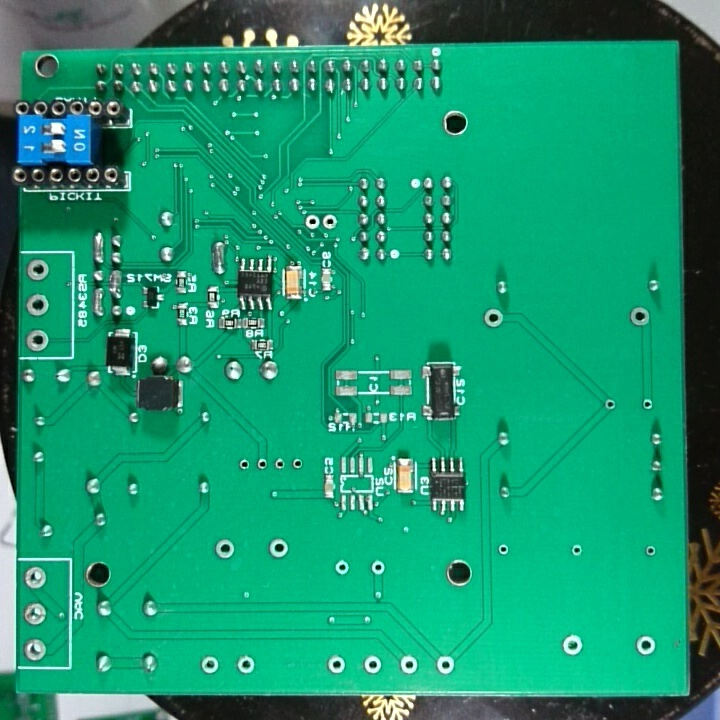F: (24, 290, 53, 320), (22, 326, 53, 354), (22, 563, 49, 592), (559, 630, 585, 660), (631, 632, 659, 659), (22, 636, 48, 664), (25, 256, 51, 283), (22, 600, 48, 626), (266, 535, 291, 562), (360, 652, 385, 678), (211, 536, 237, 561), (432, 653, 457, 678), (629, 304, 653, 330), (325, 652, 349, 678), (199, 652, 222, 678), (397, 652, 420, 677), (482, 307, 505, 331), (235, 653, 257, 678), (331, 558, 354, 580), (321, 211, 339, 234), (303, 212, 322, 233), (289, 451, 305, 475), (567, 539, 585, 560), (271, 452, 289, 473), (368, 556, 385, 578), (494, 540, 512, 560), (642, 540, 659, 561), (237, 455, 254, 475), (639, 395, 657, 412), (601, 394, 617, 413), (255, 455, 271, 473)
P: (209, 238, 229, 276), (89, 283, 108, 318), (106, 267, 125, 300), (91, 228, 107, 266)
